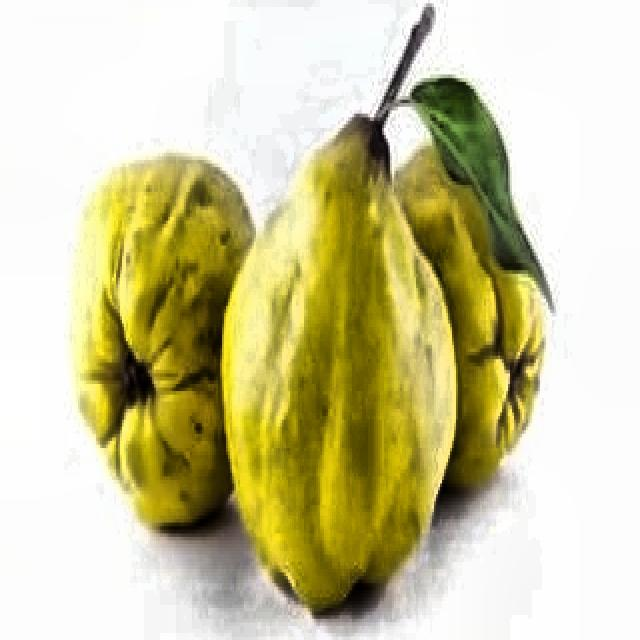Fruit: (59, 52, 557, 622)
